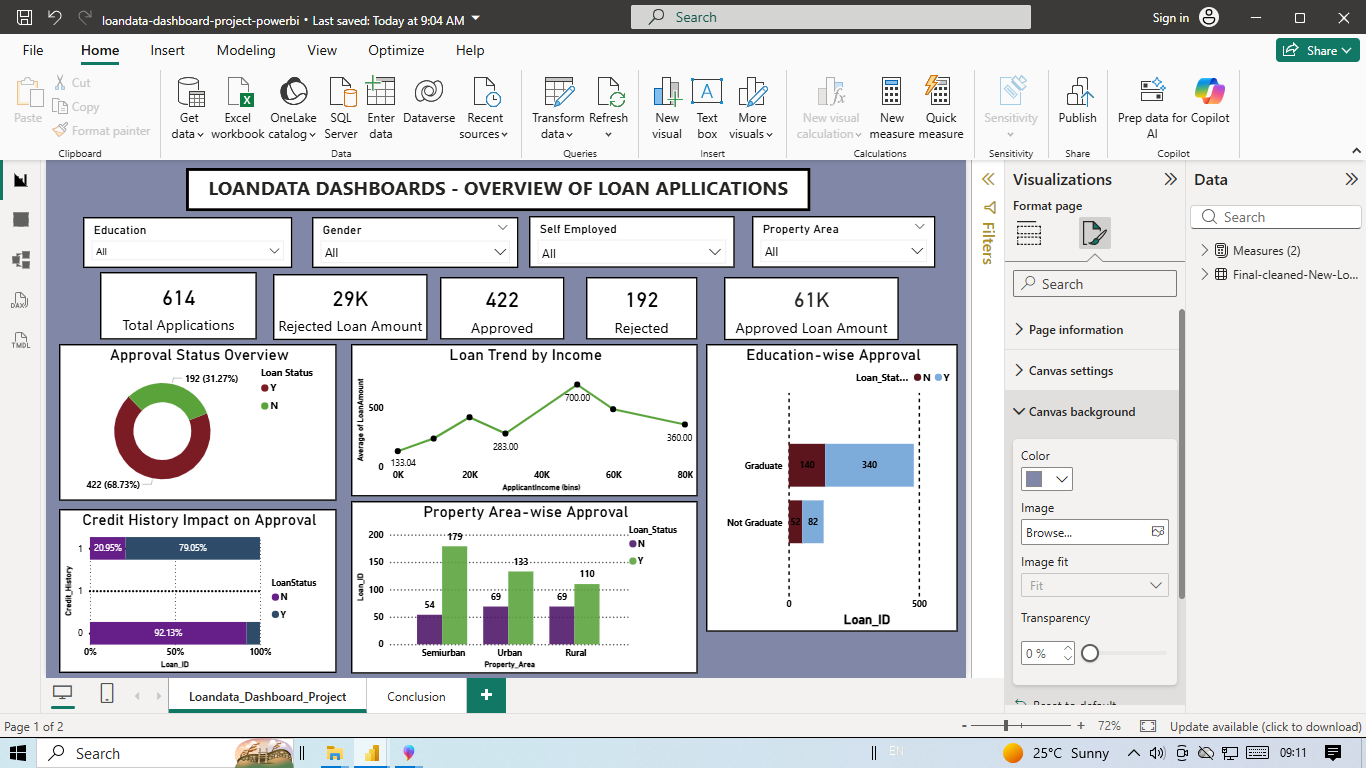

The dashboard page shown, as its layout file describes it:
{"tool":"powerbi","page":{"name":"Loandata_Dashboard_Project ","canvas":[1280,720],"ordinal":0},"visuals":[{"type":"donutChart","title":"Loan Approval Status ","fields":{"Category":["Final-cleaned-New-Loandata (2).Loan_Status"],"Y":["CountNonNull(Final-cleaned-New-Loandata (2).Loan_ID)"]},"box":[18.5,255.3,386.4,218.4],"z":0},{"type":"slicer","fields":{"Values":["Final-cleaned-New-Loandata (2).Gender"]},"box":[369.6,79,287.2,70.6],"z":1000},{"type":"barChart","title":"Educationwise Loan Approval","fields":{"Category":["Final-cleaned-New-Loandata (2).Education"],"Y":["CountNonNull(Final-cleaned-New-Loandata (2).Loan_ID)"],"Series":["Final-cleaned-New-Loandata (2).Loan_Status"]},"box":[917.4,255.8,350.3,400.3],"z":2000},{"type":"card","fields":{"Values":["Measures (2).Approved"]},"box":[547.6,162.9,173,87.3],"z":3000},{"type":"card","fields":{"Values":["Measures (2).Rejected"]},"box":[750.9,162.9,154.5,87.3],"z":4000},{"type":"card","fields":{"Values":["Measures (2).Total Applications"]},"box":[75.6,156.2,218.4,94.1],"z":5000},{"type":"card","fields":{"Values":["Measures (2).Rejected Loan Amount"]},"box":[315.8,157.9,215,92.4],"z":6000},{"type":"slicer","fields":{"Values":["Final-cleaned-New-Loandata (2).Education"]},"box":[52.1,79,290.6,70.6],"z":7000},{"type":"slicer","fields":{"Values":["Final-cleaned-New-Loandata (2).Self_Employed"]},"box":[671.9,77.3,285.6,72.2],"z":8000},{"type":"slicer","fields":{"Values":["Final-cleaned-New-Loandata (2).Property_Area"]},"box":[981,77.3,255.3,72.2],"z":9000},{"type":"lineChart","title":"Loan Trend by Income","fields":{"Y":["Avg(Final-cleaned-New-Loandata (2).LoanAmount)"],"Category":["Final-cleaned-New-Loandata (2).ApplicantIncome (bins)"]},"box":[423.3,255.3,482.1,211.7],"z":10000},{"type":"hundredPercentStackedBarChart","title":"Credit History Impact on Approval","fields":{"Category":["Final-cleaned-New-Loandata (2).Credit_History"],"Y":["CountNonNull(Final-cleaned-New-Loandata (2).Loan_ID)"],"Series":["Final-cleaned-New-Loandata (2).Loan_Status"]},"box":[18.5,485.5,386.4,228.5],"z":11000},{"type":"clusteredColumnChart","title":"Property Loan Status ","fields":{"Category":["Final-cleaned-New-Loandata (2).Property_Area"],"Y":["CountNonNull(Final-cleaned-New-Loandata (2).Loan_ID)"],"Series":["Final-cleaned-New-Loandata (2).Loan_Status"]},"box":[423.3,473.7,482.1,240.2],"z":12000},{"type":"textbox","box":[194.9,11.8,868.5,60.5],"z":13000},{"type":"card","fields":{"Values":["Measures (2).Approved Loan Amount"]},"box":[942.4,162.6,243.2,87.6],"z":14000}]}

Visuals, with their boxes on the page's 1280x720 design canvas (x1, y1, x2, y2). These are canvas units, not pixel positions in the 1366x768 screenshot, which may show the page scaled, cropped or inside an application window:
"Loan Approval Status " donutChart: 18/255/405/474
slicer - Final-cleaned-New-Loandata (2).Gender: 370/79/657/150
"Educationwise Loan Approval" barChart: 917/256/1268/656
card - Measures (2).Approved: 548/163/721/250
card - Measures (2).Rejected: 751/163/905/250
card - Measures (2).Total Applications: 76/156/294/250
card - Measures (2).Rejected Loan Amount: 316/158/531/250
slicer - Final-cleaned-New-Loandata (2).Education: 52/79/343/150
slicer - Final-cleaned-New-Loandata (2).Self_Employed: 672/77/958/150
slicer - Final-cleaned-New-Loandata (2).Property_Area: 981/77/1236/150
"Loan Trend by Income" lineChart: 423/255/905/467
"Credit History Impact on Approval" hundredPercentStackedBarChart: 18/486/405/714
"Property Loan Status " clusteredColumnChart: 423/474/905/714
textbox: 195/12/1063/72
card - Measures (2).Approved Loan Amount: 942/163/1186/250
